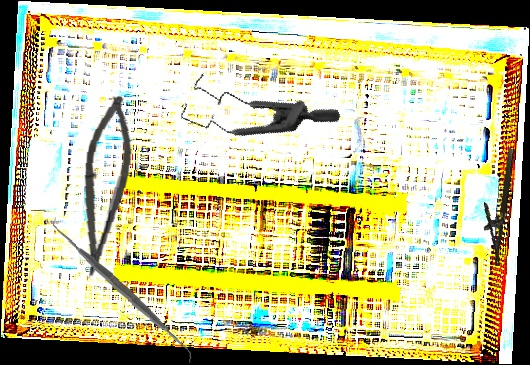Micro Scissor: (75, 93, 138, 281)
Needle Holder: (475, 145, 517, 267)
Spatula Surgical: (46, 217, 199, 363)
Speculum: (167, 27, 343, 183)
